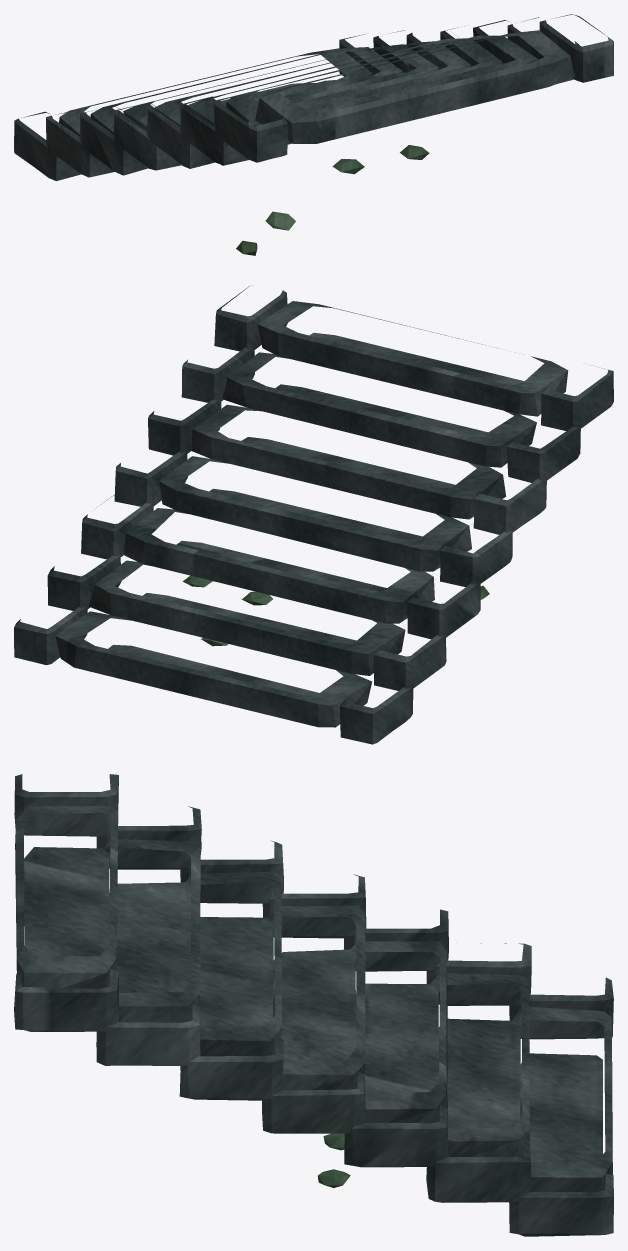
File: 0368_stairs_18.glb
3 views of the same model, one above another, from view 1: azimuth 30°, elevation 25°; view 2: azimuth 150°, elevation 25°; view 3: azimuth 270°, elevation 25° (orthographic). The views are drawn at different scales.
Visible parts, largest first — view 1: stone_dark, moss; view 2: stone_dark, moss; view 3: stone_dark, moss.
Part boxes in pixels (box(x1,y1,x2,y2)): stone_dark: box(14, 14, 613, 181); moss: box(236, 145, 429, 255); stone_dark: box(14, 285, 613, 744); moss: box(183, 575, 489, 646); stone_dark: box(14, 774, 613, 1236); moss: box(317, 1133, 350, 1187).
Size of the model in its own units: 2.76 by 1.47 by 3.2.
2 materials, 2 textured.
